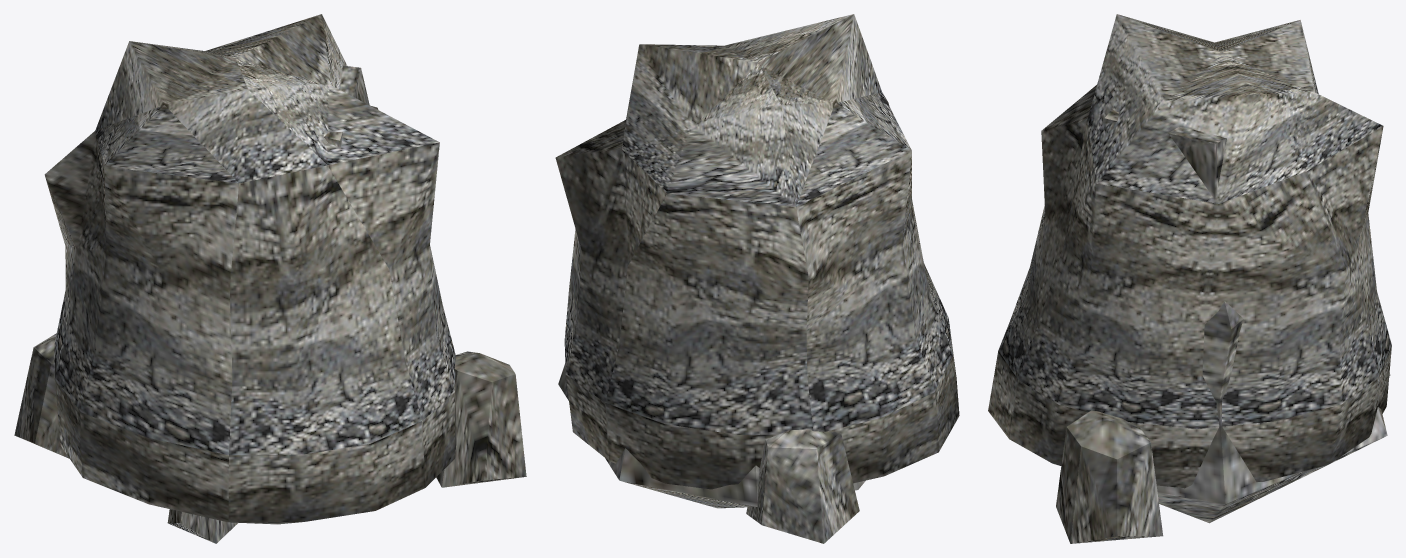
File: boulder5.obj
3 views of the same model, side by side, from view 1: azimuth 30°, elevation 25°; view 2: azimuth 150°, elevation 25°; view 3: azimuth 270°, elevation 25° (orthographic). The views are drawn at different scales.
Parts seen in each view (by area): view 1: em29-0001-2; view 2: em29-0001-2; view 3: em29-0001-2.
Boxes of the visible parts, left/top/right/bottom form: em29-0001-2: left=14, top=14, right=526, bottom=543; em29-0001-2: left=555, top=14, right=959, bottom=543; em29-0001-2: left=988, top=14, right=1391, bottom=543.
Bounding box in the file's own units: 178 × 212 × 166.
Materials: 1 (1 with a texture image).
